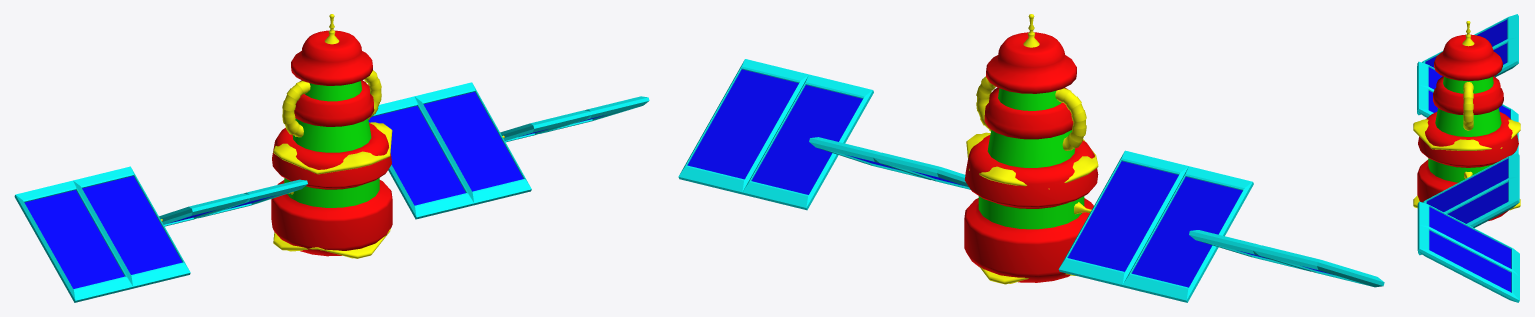
File: sat_03.obj
3 views of the same model, side by side, from view 1: azimuth 30°, elevation 25°; view 2: azimuth 150°, elevation 25°; view 3: azimuth 270°, elevation 25° (orthographic). The views are drawn at different scales.
Parts seen in each view (by area): view 1: sat_03 st_grp; view 2: sat_03 st_grp; view 3: sat_03 st_grp.
Part boxes in pixels (bbox=[...]): sat_03 st_grp: bbox=[14, 14, 649, 302]; sat_03 st_grp: bbox=[678, 14, 1384, 302]; sat_03 st_grp: bbox=[1413, 14, 1520, 302].
Bounding box in the file's own units: 921 × 341 × 178.
